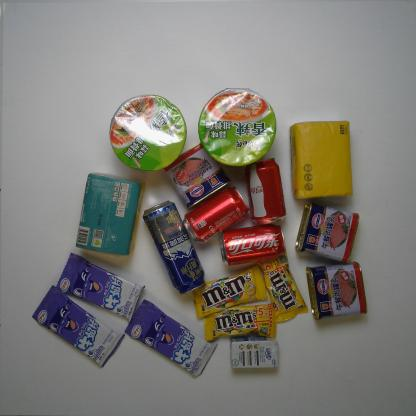Alcohol: (142, 198, 210, 296)
Candy: (29, 282, 129, 370), (120, 296, 218, 378), (54, 250, 147, 320)
Canned Food: (160, 138, 230, 210), (288, 200, 360, 261), (302, 260, 370, 322)
Chocolate: (189, 264, 272, 319), (256, 250, 310, 324), (201, 297, 281, 343)
Drink: (176, 182, 248, 248), (214, 221, 287, 272), (242, 154, 287, 226)
Instant Noodles: (198, 83, 280, 169), (107, 90, 188, 174)
Milk: (228, 333, 280, 373)
Tissue: (73, 170, 144, 260), (287, 116, 356, 205)
